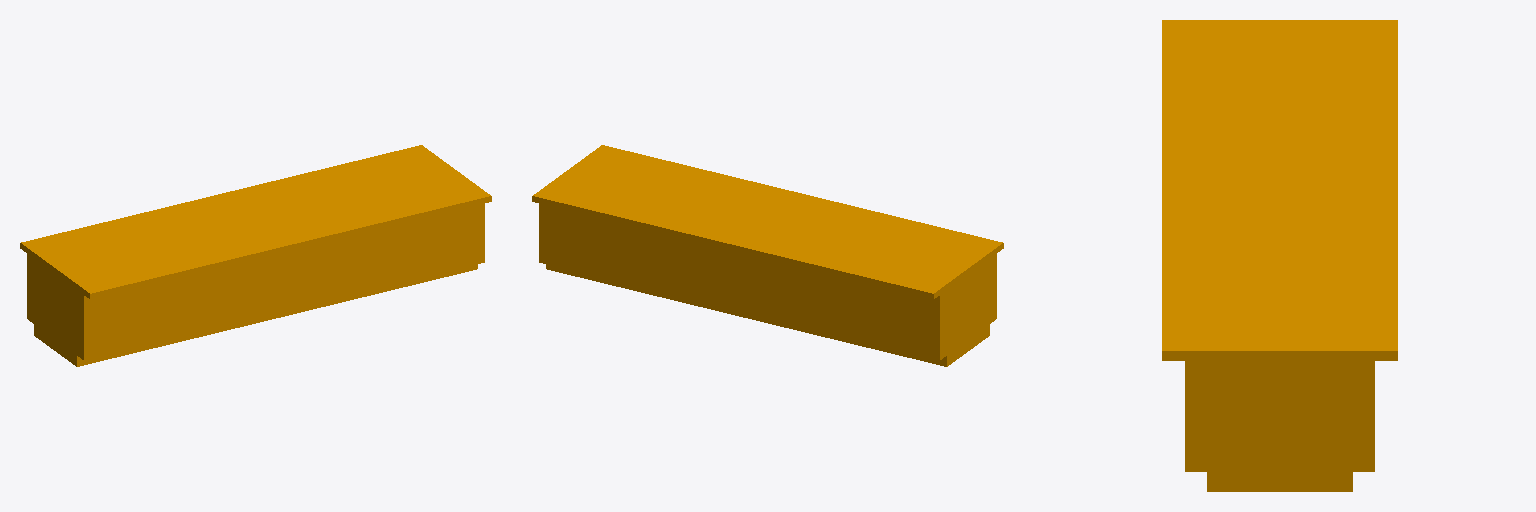
URDF robot description (countertop):
<?xml version="1.0"?>
<robot name="countertop">
  <link name="countertop">
    <inertial>
        <origin rpy="0 0 0" xyz="0 0 0"/>
        <mass value="30.0"/>
        <inertia ixx="2e-2" ixy="0" ixz="0" iyy="2e-2" iyz="0" izz="2e-2"/>
    </inertial>
    <visual>
      <geometry>
        <mesh filename="countertop_visual.obj"/>
      </geometry>
    </visual>
    <collision>
      <geometry>
        <mesh filename="countertop_collision.obj"/>
      </geometry>
      <surface>
           <bounce restitution_coefficient = "0.1"/>
      </surface>
    </collision>
  </link>
</robot>

--- Render facts (derived) ---
Views: 3 orthographic renders of the robot side by side, from view 1: azimuth 30°, elevation 25°; view 2: azimuth 150°, elevation 25°; view 3: azimuth 270°, elevation 25°.
Model countertop with 1 links and 0 joints (none), rooted at countertop, posed every joint at zero.
Links seen in each view (by area): view 1: countertop; view 2: countertop; view 3: countertop.
Link boxes in pixels (x1,y1,x2,y2): countertop: (20,145,491,366); countertop: (532,145,1003,366); countertop: (1162,20,1397,491).
Bounding box of the posed robot: 3.77 × 1.14 × 0.7454 m (x, y, z).
Meshes: 1 distinct files referenced, 1 mesh visuals loaded (1 OBJ).
